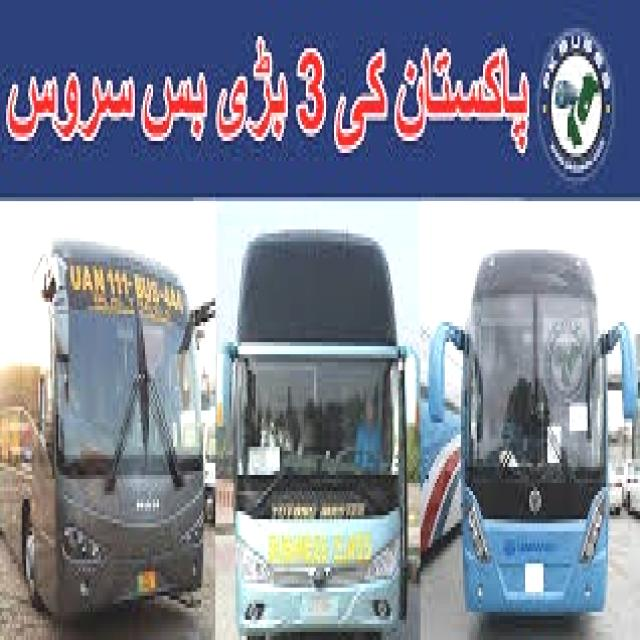bus: (218, 214, 420, 640), (3, 234, 208, 640), (430, 232, 640, 613)
